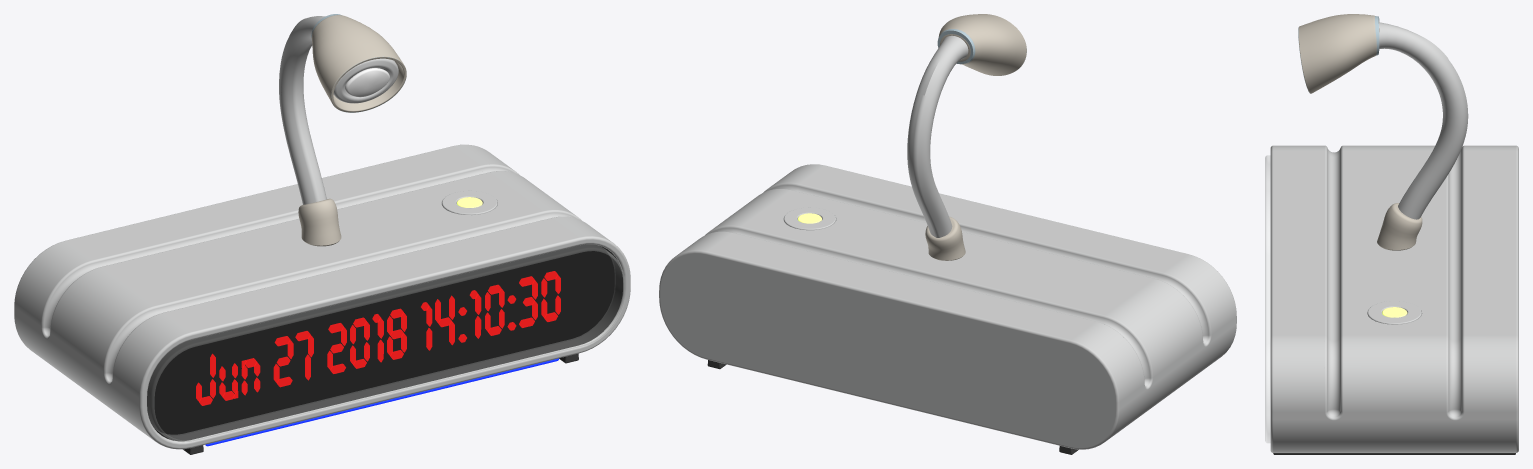
3 views of the same model, side by side, from view 1: azimuth 30°, elevation 25°; view 2: azimuth 150°, elevation 25°; view 3: azimuth 270°, elevation 25° (orthographic). The views are drawn at different scales.
Parts seen in each view (by area): view 1: model2; view 2: model2; view 3: model2.
Part boxes in pixels (x1,y1,x2,y2): model2: (14,14,630,454); model2: (659,14,1236,454); model2: (1265,14,1518,454).
Size of the model in its own units: 0.2 by 0.1382 by 0.092.
